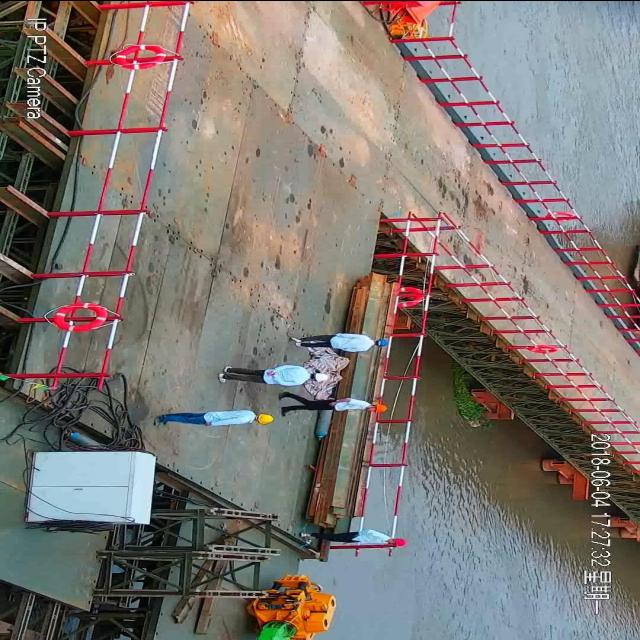helmet: (254, 411, 276, 425), (390, 534, 410, 548), (376, 335, 396, 348), (370, 401, 388, 414), (312, 372, 330, 382)
